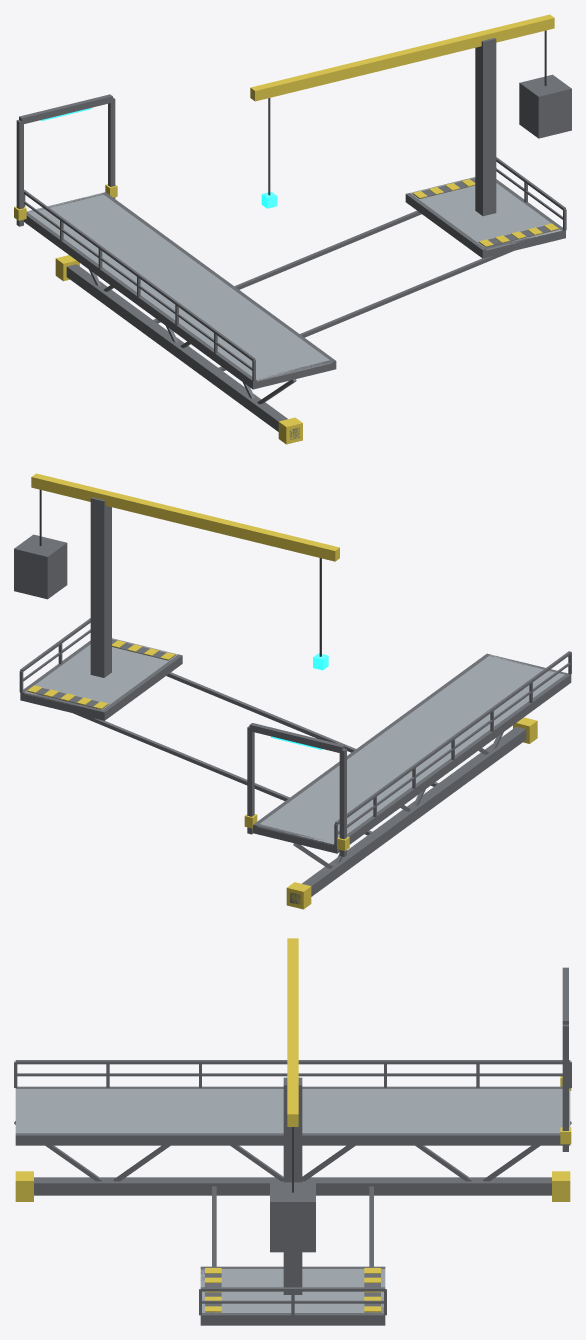
Rendered from diorama_counterweight_crane_g20.glb.
The picture shows the model from 3 angles, top to bottom: view 1: azimuth 30°, elevation 25°; view 2: azimuth 150°, elevation 25°; view 3: azimuth 270°, elevation 25°; orthographic projection. The views are drawn at different scales.
Visible parts, largest first — view 1: Deck_a, Boom, Spine, Deck_station, Mast, Frame_a_-1, Dyn_Counterweight, Hanger_station_1, Rail_a_-1, Hanger_station_0, Frame_a_1, Frame_station_-1 (+7 smaller); view 2: Deck_a, Boom, Spine, Deck_station, Mast, Dyn_Counterweight, Frame_a_-1, Hanger_station_0, Rail_a_-1, Hanger_station_1, Frame_a_1, Frame_station_-1 (+7 smaller); view 3: Deck_a, Spine, Frame_a_1, Deck_station, Dyn_Counterweight, Rail_a_-1, Frame_station_1, Mast, Boom, MidRail_a_-1, Frame_a_-1, Rail_station_1 (+4 smaller).
Boxes of the visible parts, x1=… form: Deck_a: x1=27, y1=193, x2=332, y2=381; Boom: x1=250, y1=14, x2=554, y2=101; Spine: x1=66, y1=264, x2=299, y2=439; Deck_station: x1=410, y1=177, x2=561, y2=250; Mast: x1=475, y1=38, x2=496, y2=216; Frame_a_-1: x1=24, y1=212, x2=256, y2=389; Dyn_Counterweight: x1=519, y1=74, x2=571, y2=138; Hanger_station_1: x1=218, y1=251, x2=513, y2=371; Rail_a_-1: x1=24, y1=189, x2=255, y2=360; Hanger_station_0: x1=153, y1=210, x2=421, y2=323; Frame_a_1: x1=102, y1=192, x2=336, y2=369; Frame_station_-1: x1=405, y1=193, x2=484, y2=258; Deck_a: x1=257, y1=655, x2=564, y2=845; Boom: x1=31, y1=473, x2=339, y2=561; Spine: x1=290, y1=726, x2=526, y2=904; Deck_station: x1=24, y1=638, x2=177, y2=709; Mast: x1=90, y1=497, x2=111, y2=677; Dyn_Counterweight: x1=14, y1=534, x2=67, y2=599; Frame_a_-1: x1=333, y1=674, x2=569, y2=853; Hanger_station_0: x1=73, y1=713, x2=372, y2=835; Rail_a_-1: x1=335, y1=651, x2=571, y2=824; Hanger_station_1: x1=166, y1=672, x2=438, y2=786; Frame_a_1: x1=253, y1=653, x2=489, y2=833; Frame_station_-1: x1=100, y1=654, x2=181, y2=720; Deck_a: x1=15, y1=1089, x2=570, y2=1133; Spine: x1=34, y1=1177, x2=551, y2=1195; Frame_a_1: x1=15, y1=1133, x2=562, y2=1145; Deck_station: x1=200, y1=1269, x2=385, y2=1312; Dyn_Counterweight: x1=270, y1=1182, x2=315, y2=1252; Rail_a_-1: x1=15, y1=1060, x2=570, y2=1064; Frame_station_1: x1=200, y1=1313, x2=385, y2=1325; Mast: x1=283, y1=1077, x2=302, y2=1294; Boom: x1=287, y1=938, x2=298, y2=1126; MidRail_a_-1: x1=17, y1=1073, x2=562, y2=1076; Frame_a_-1: x1=15, y1=1086, x2=570, y2=1088; Rail_station_1: x1=200, y1=1287, x2=385, y2=1291.
Bounding box in the file's own units: 13 × 7.2 × 12.07.
